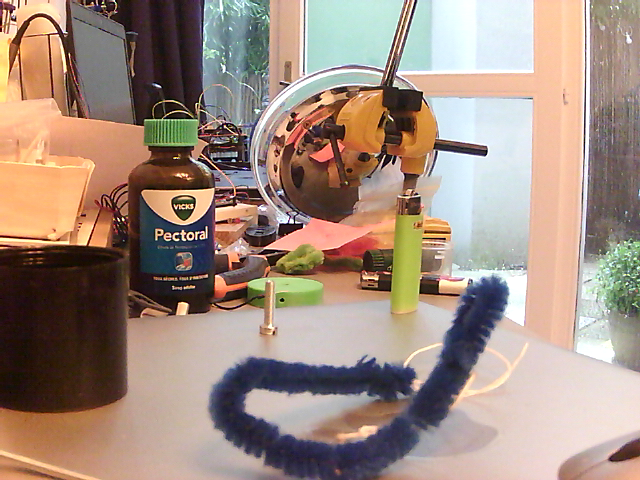bolt: (261, 278, 282, 346)
lighter: (387, 190, 429, 322)
